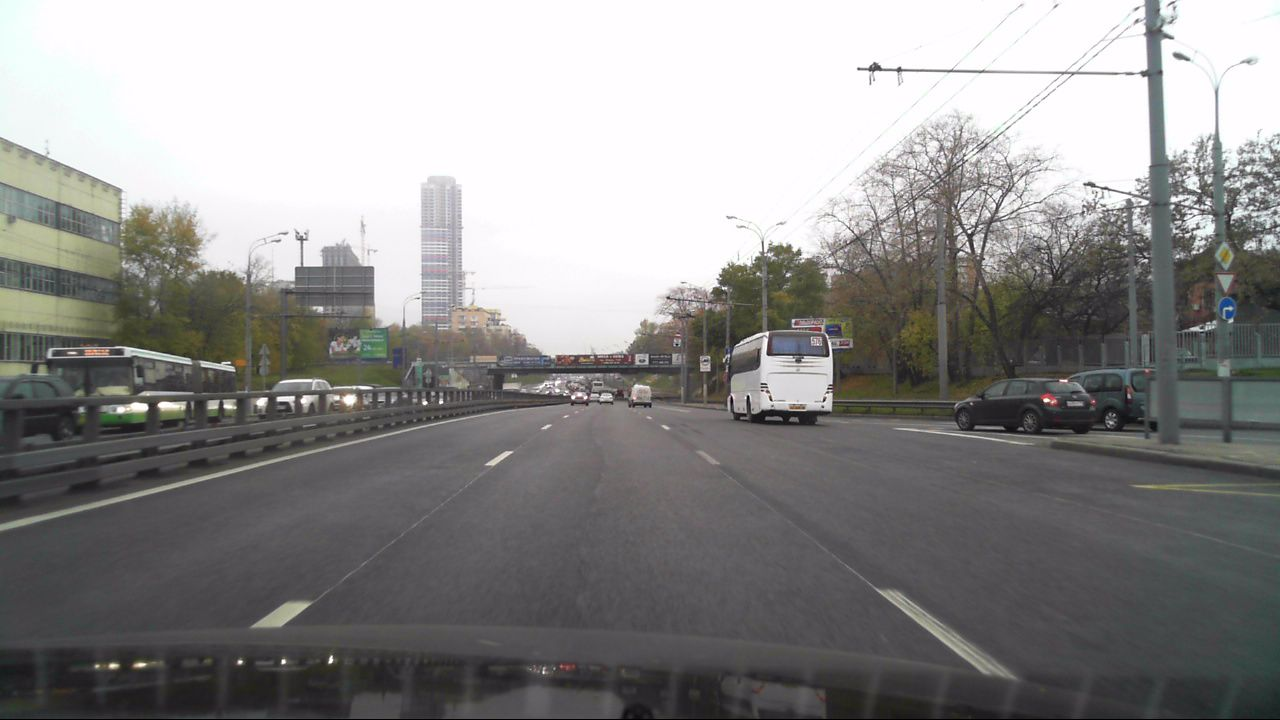main road: (1213, 243, 1234, 270)
